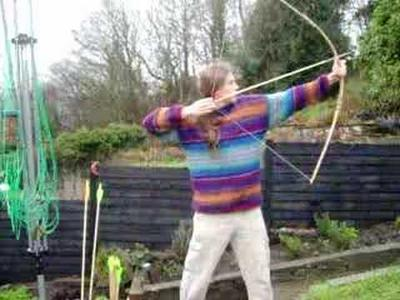person: (146, 55, 348, 300)
